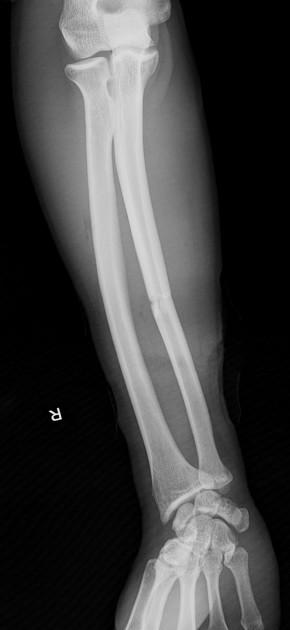fractured: (145, 295, 176, 308)
